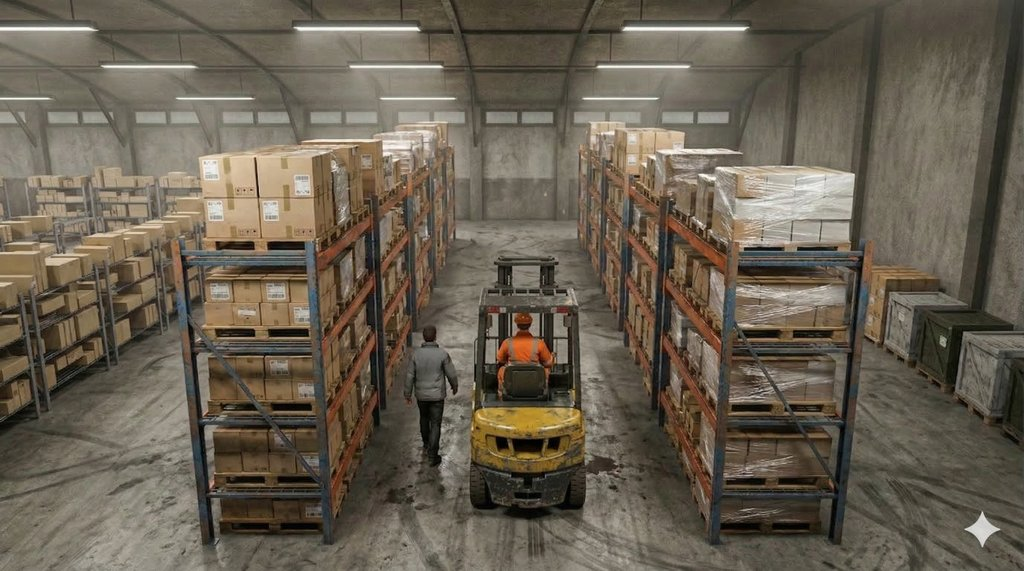forklift: (465, 249, 613, 516)
pallet: (214, 470, 325, 488)
person: (404, 316, 466, 468), (489, 304, 572, 396)
safety_helmet: (502, 304, 539, 330)
safety_vest: (500, 329, 559, 372)
